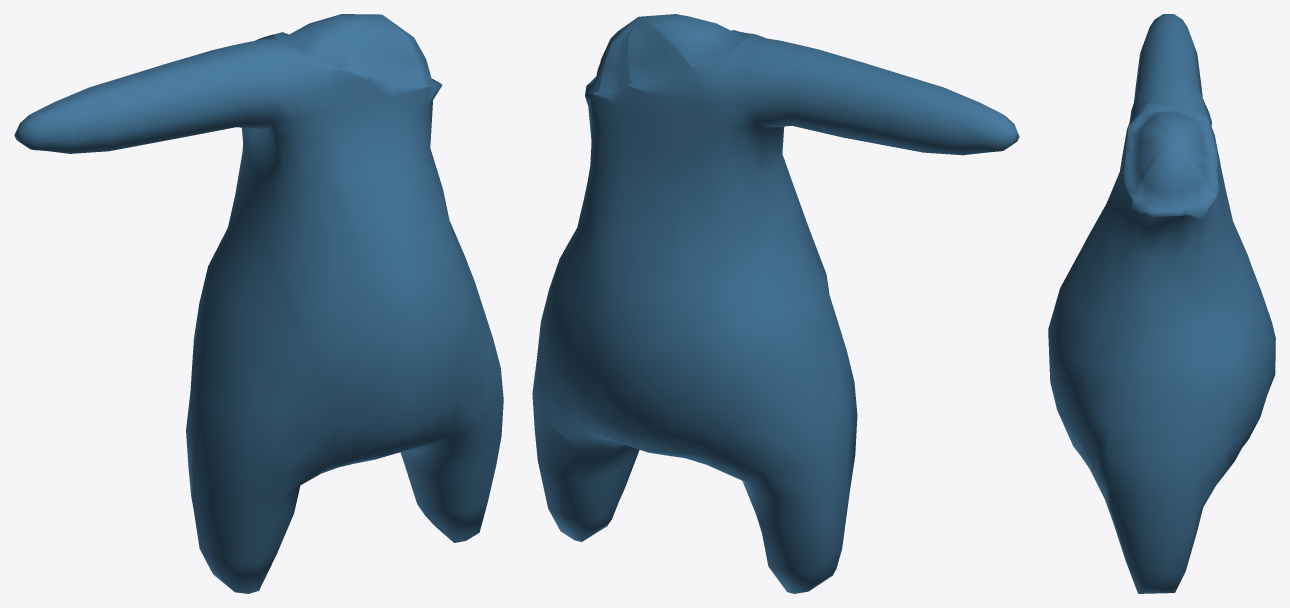
The model's file is Puppe_06_SM.FBX.
The picture shows the model from 3 angles, left to right: view 1: azimuth 30°, elevation 25°; view 2: azimuth 150°, elevation 25°; view 3: azimuth 270°, elevation 25°; orthographic projection. The views are drawn at different scales.
Visible parts, largest first — view 1: Voodoo 06; view 2: Voodoo 06; view 3: Voodoo 06.
Boxes of the visible parts, x1=… form: Voodoo 06: x1=14, y1=14, x2=503, y2=593; Voodoo 06: x1=532, y1=14, x2=1019, y2=593; Voodoo 06: x1=1048, y1=14, x2=1275, y2=593.
Size of the model in its own units: 22.15 by 24.32 by 11.63.
